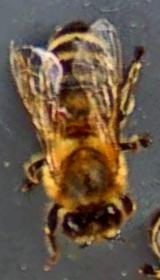varroa_mite: (36, 91, 80, 129)
